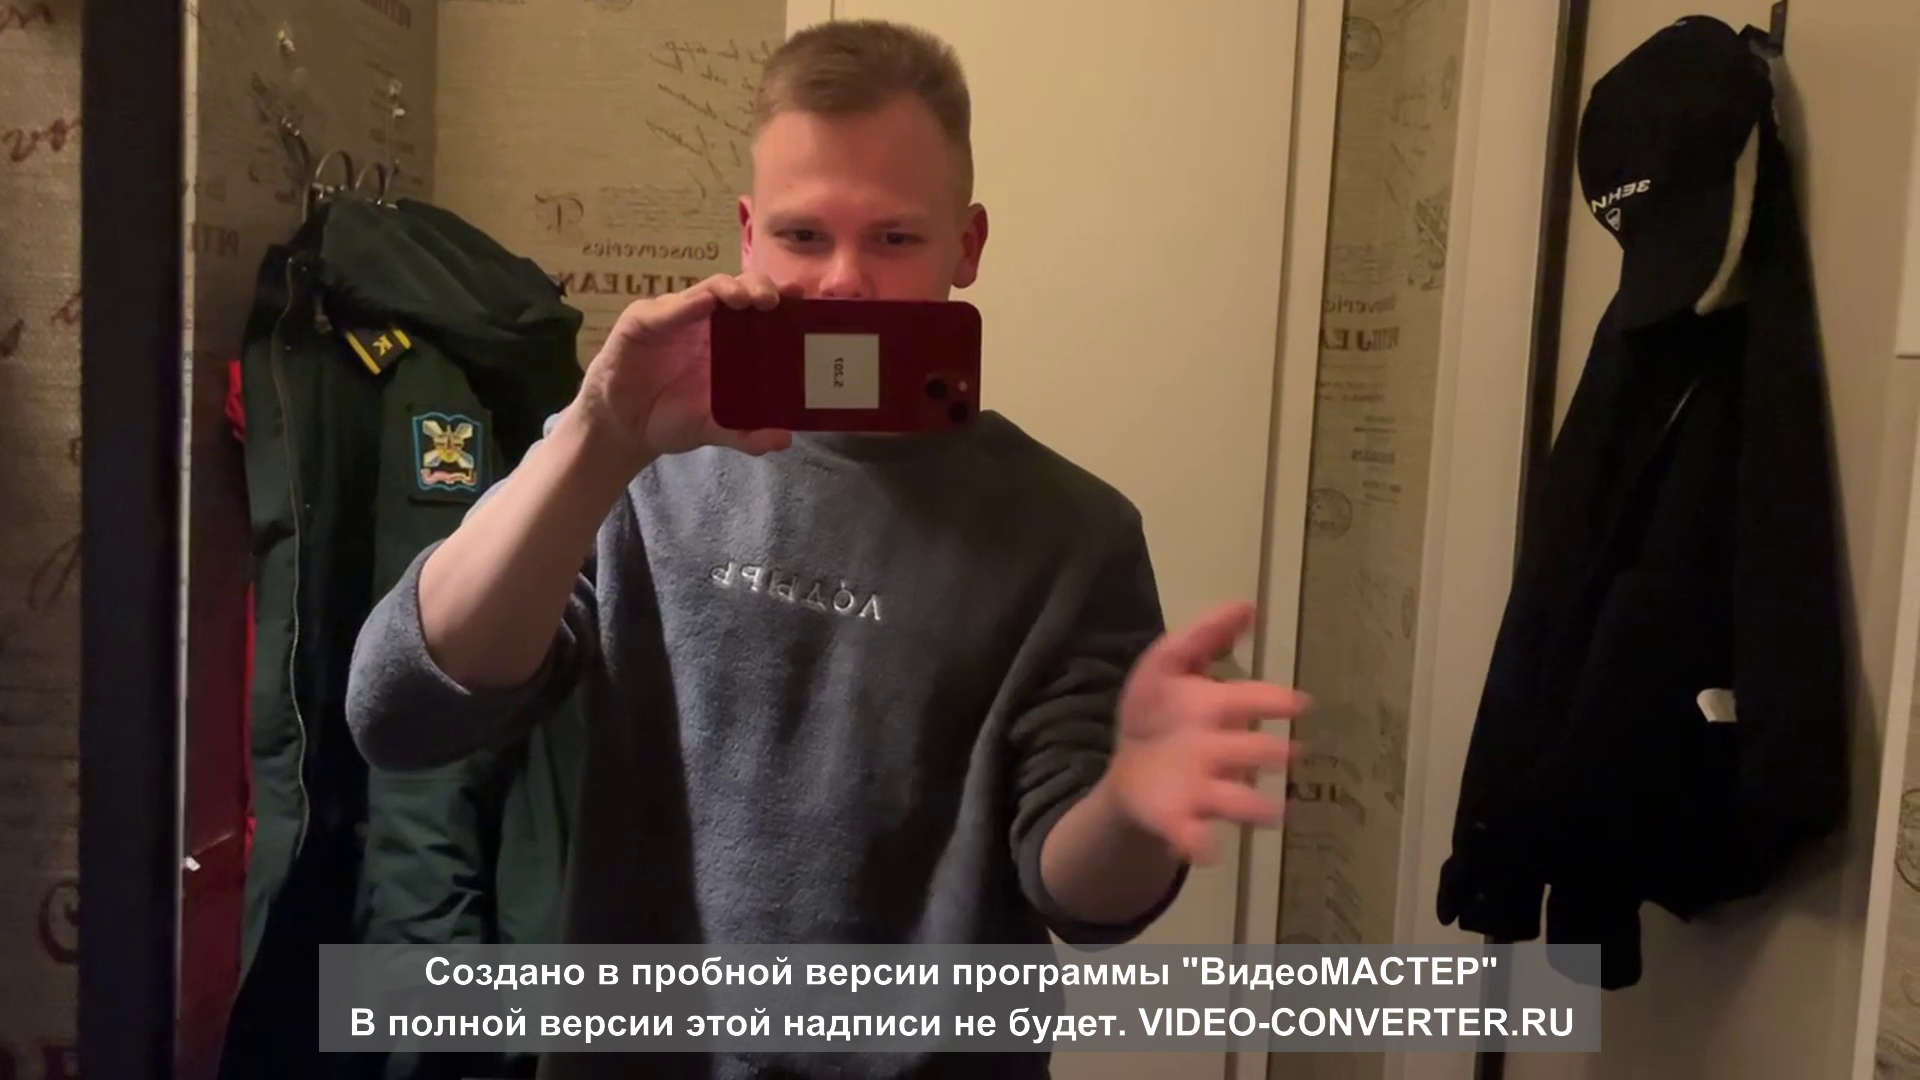Ладонь: (1116, 604, 1309, 861)
